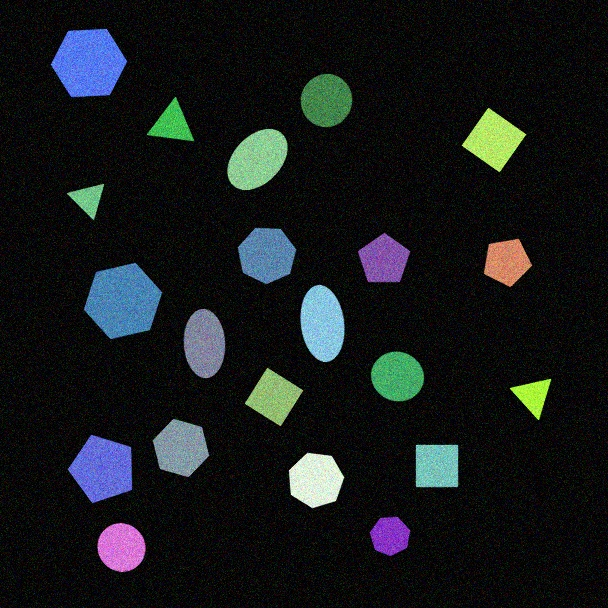Circulo: (300, 73, 353, 128), (370, 351, 425, 402), (97, 522, 146, 573)
Elipse: (227, 128, 288, 191), (300, 284, 345, 363), (183, 308, 226, 379)
Heptagono: (237, 227, 297, 285), (288, 452, 345, 509), (369, 516, 411, 557)
Hexagono: (83, 262, 163, 340), (50, 28, 128, 98), (152, 418, 210, 478)
Pentagono: (67, 434, 133, 504), (357, 232, 411, 283), (483, 238, 533, 288)
Quadrado: (461, 107, 527, 173), (244, 367, 304, 427), (415, 444, 459, 488)
Triangulo: (146, 97, 195, 142), (509, 378, 552, 421), (66, 183, 105, 221)
